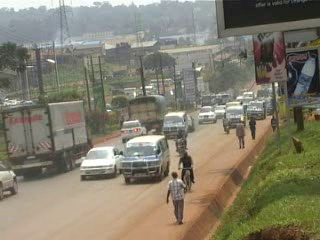Car: (78, 144, 124, 181), (0, 162, 21, 201), (118, 119, 148, 143), (196, 104, 218, 127), (184, 112, 196, 131), (213, 102, 227, 116)
Motorcycle: (174, 127, 190, 157), (219, 112, 232, 138)
